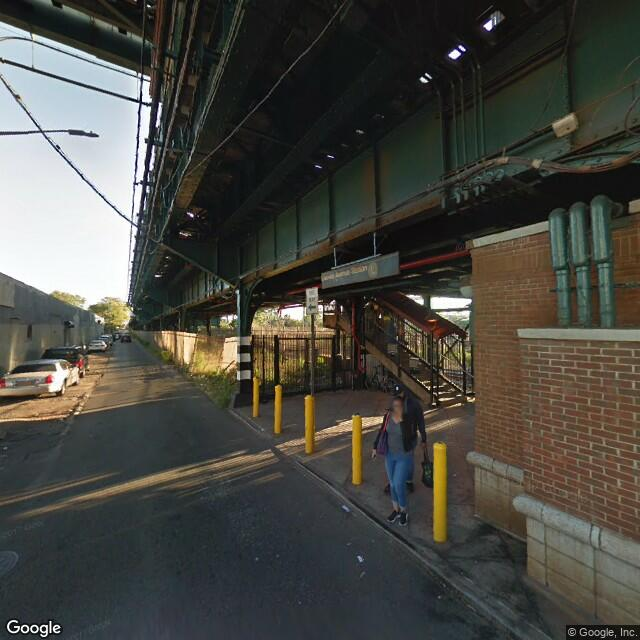litter: (341, 505, 351, 515), (356, 552, 365, 562), (433, 591, 441, 599), (260, 427, 268, 432), (451, 472, 457, 478)
